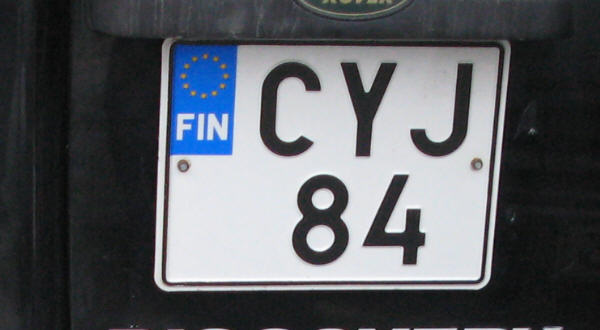license_plate: (156, 40, 509, 292)
